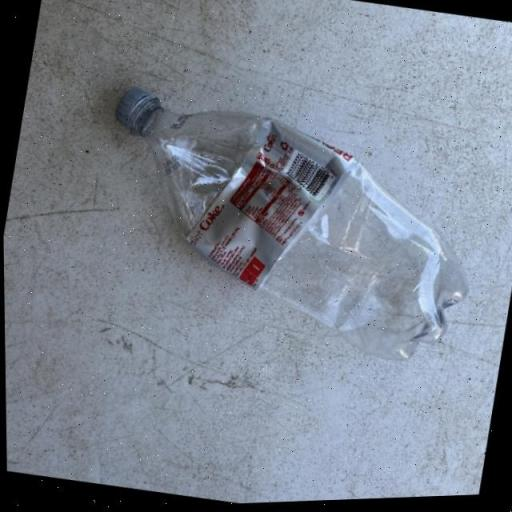plastic: (76, 72, 496, 384)
